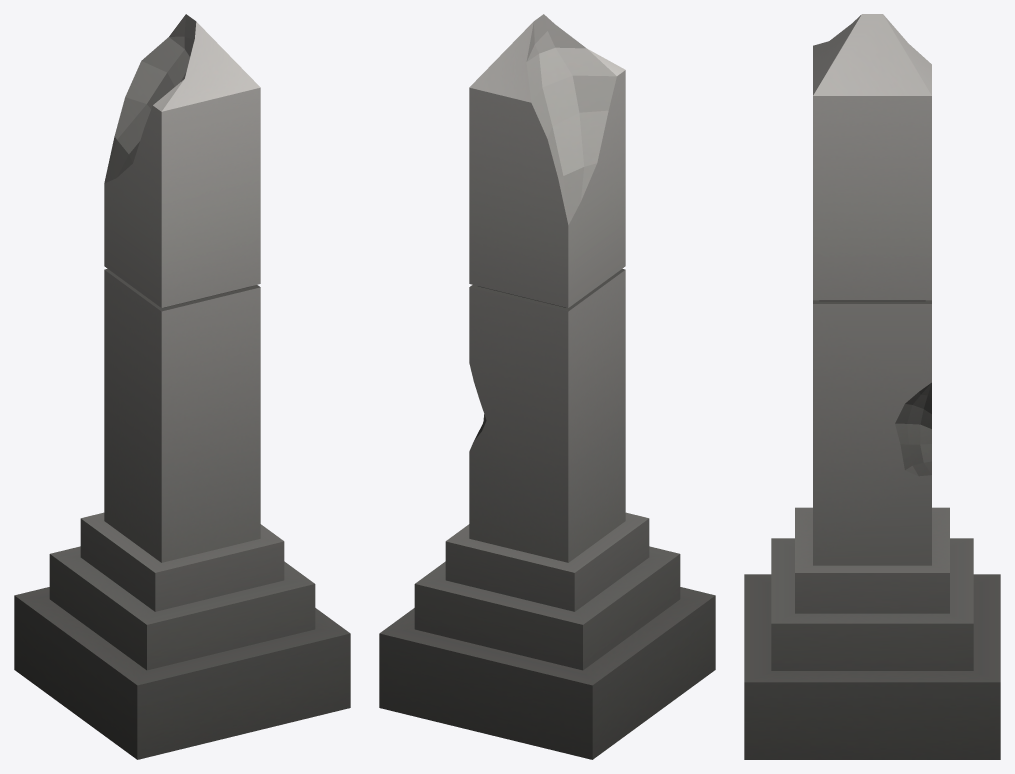
The model's file is monoliths_model_02.fbx.
3 renders of one model, left to right at view 1: azimuth 30°, elevation 25°; view 2: azimuth 150°, elevation 25°; view 3: azimuth 270°, elevation 25°, orthographic. The views are drawn at different scales.
Visible parts, largest first — view 1: Cube.002; view 2: Cube.002; view 3: Cube.002.
Part boxes in pixels (box(x1,y1,x2,y2)): Cube.002: box(14, 14, 350, 759); Cube.002: box(379, 14, 715, 759); Cube.002: box(744, 14, 1000, 759).
Bounding box in the file's own units: 3 × 9 × 3.
